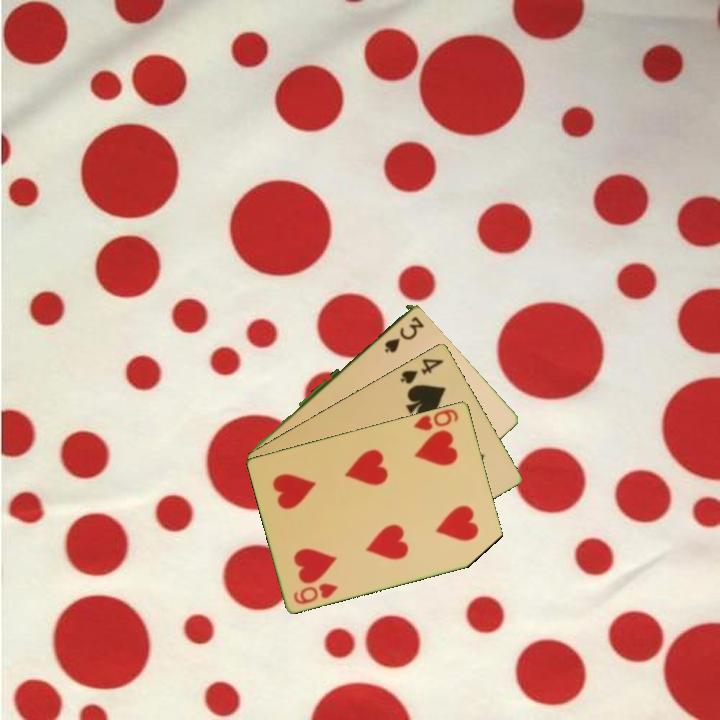3s: (381, 312, 425, 356)
4s: (397, 354, 447, 387)
6h: (410, 405, 461, 433), (290, 579, 341, 607)
